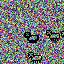sheep: (23, 33, 40, 44), (45, 29, 60, 41), (28, 51, 42, 63), (24, 32, 39, 42)
